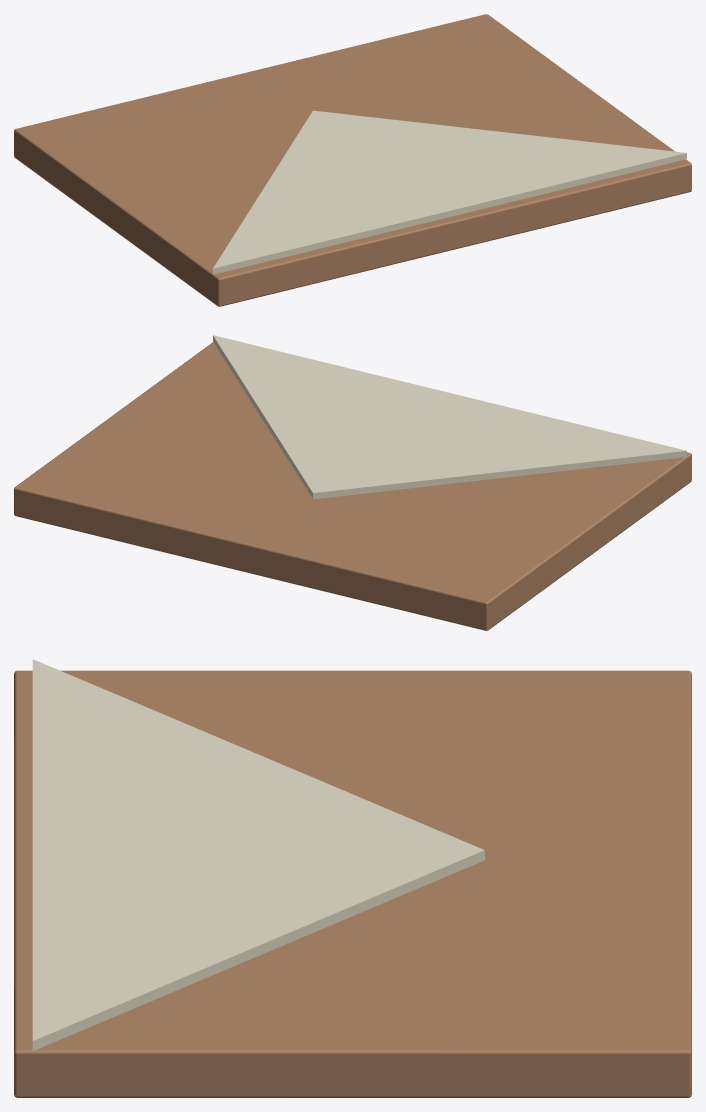
The model's file is scavengers-loot-library-shipping-envelope-5da0548a__2670.glb.
The picture shows the model from 3 angles, top to bottom: view 1: azimuth 30°, elevation 25°; view 2: azimuth 150°, elevation 25°; view 3: azimuth 270°, elevation 25°; orthographic projection. The views are drawn at different scales.
Parts seen in each view (by area): view 1: shipping-envelope; view 2: shipping-envelope; view 3: shipping-envelope.
Boxes of the visible parts, <box> form: shipping-envelope: <box>14,14,691,306</box>; shipping-envelope: <box>14,335,691,630</box>; shipping-envelope: <box>14,659,691,1097</box>.
Size of the model in its own units: 0.24 by 0.017 by 0.18.
